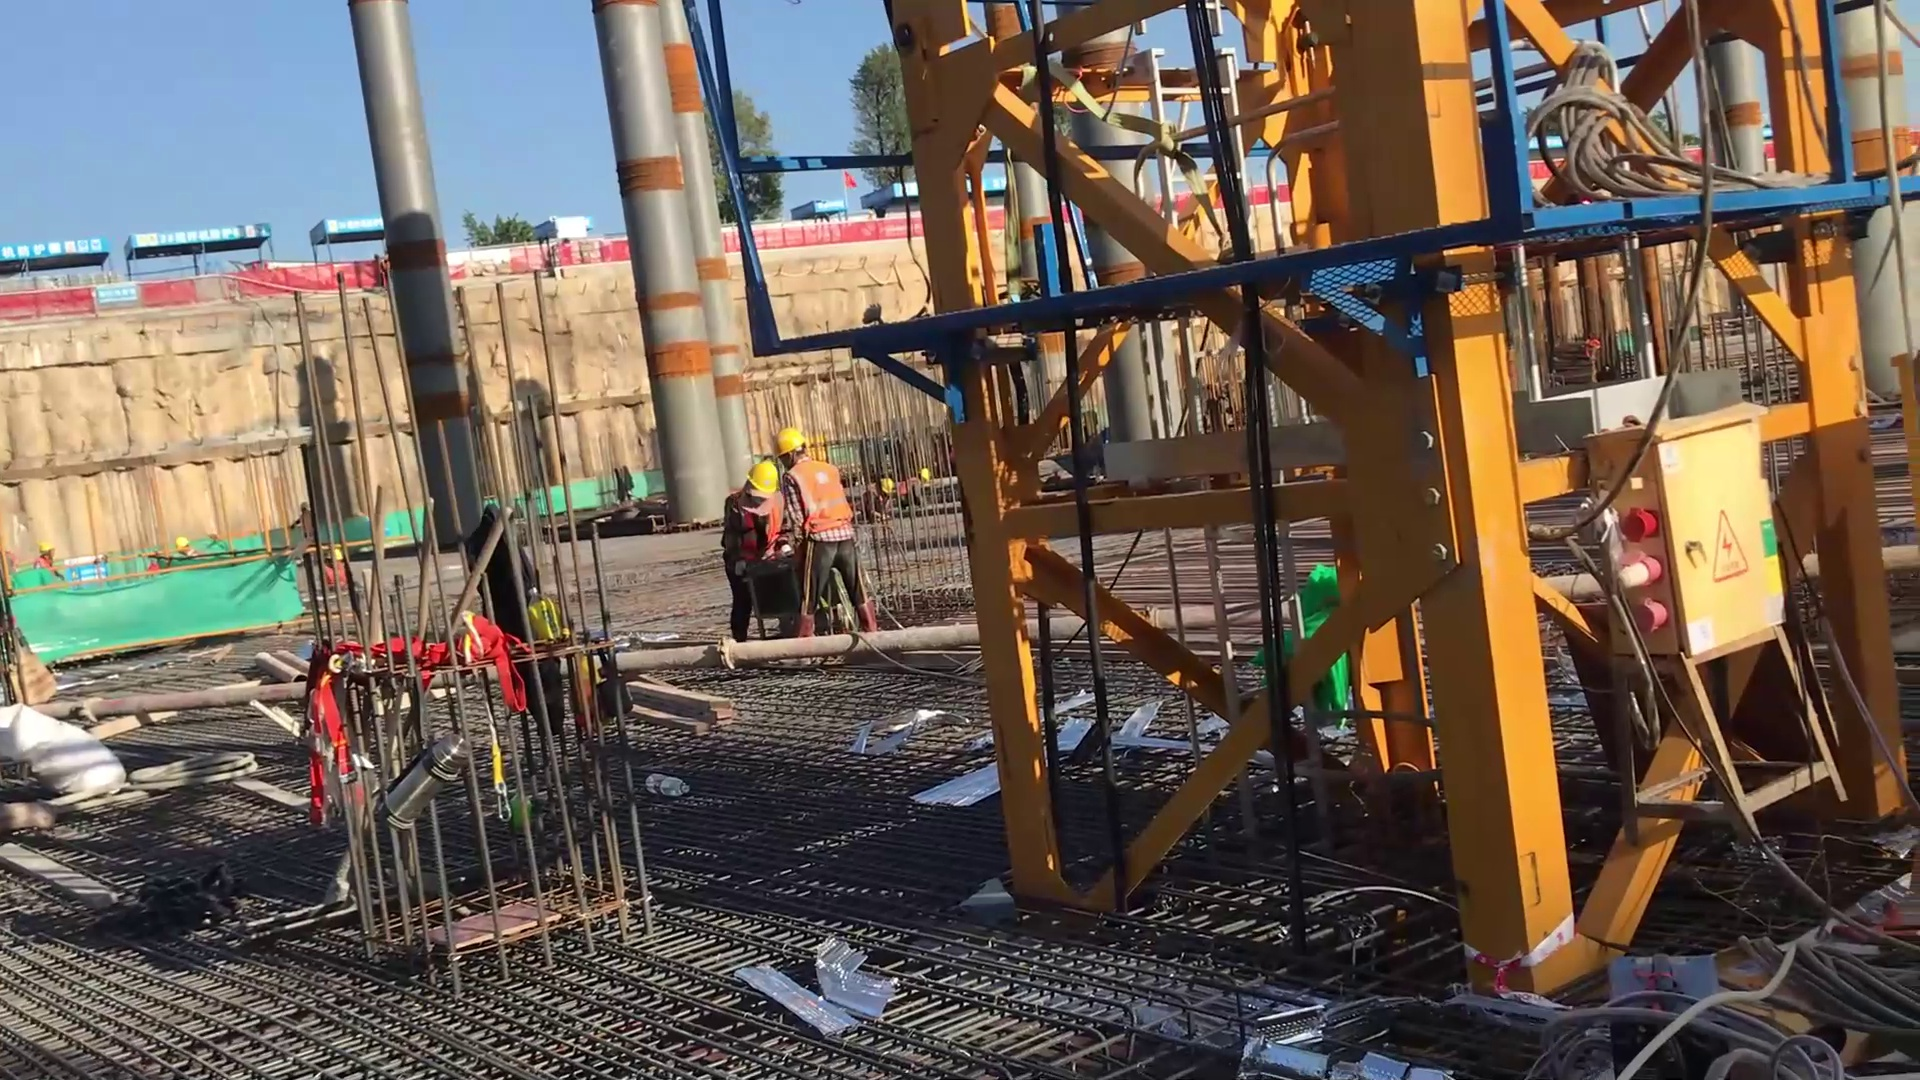ebox: (1600, 396, 1863, 819)
fence: (240, 260, 383, 291), (761, 221, 913, 245), (1, 289, 82, 320), (147, 274, 222, 300)
helmet: (748, 457, 779, 493), (773, 429, 805, 455), (172, 534, 192, 548), (33, 543, 58, 555)
person: (775, 422, 889, 628), (712, 456, 796, 638)
slogan: (1, 227, 109, 268), (127, 228, 270, 241), (88, 284, 141, 309), (319, 216, 380, 235)
vest: (786, 455, 856, 539), (723, 488, 783, 562)
